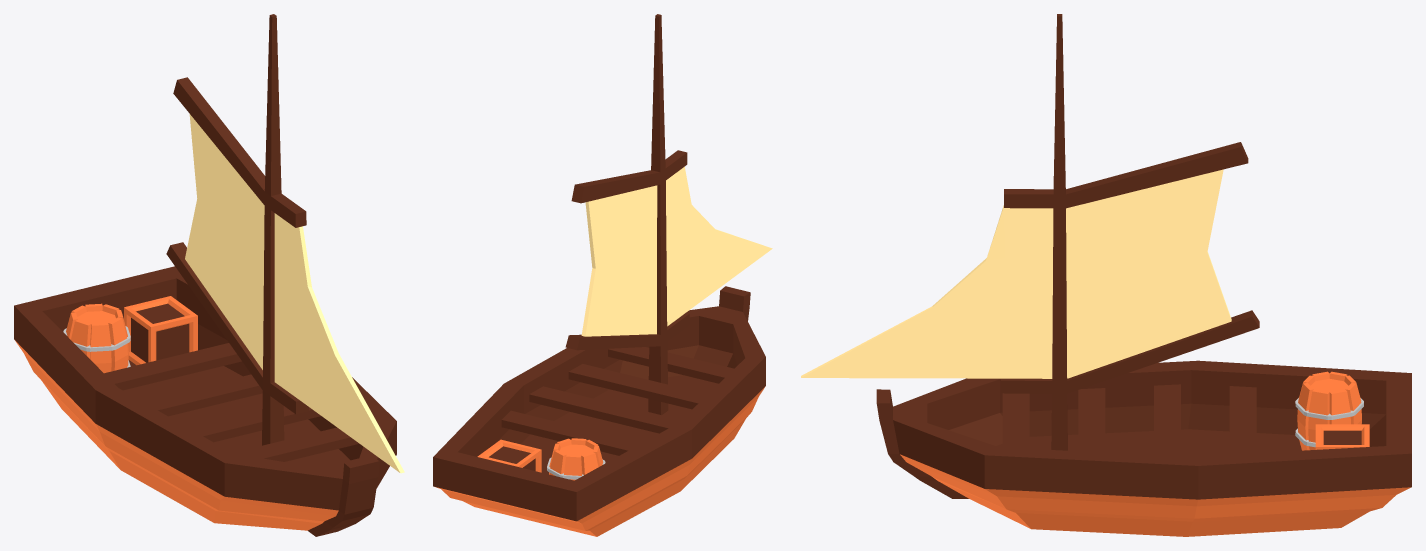
The model's file is Ship_BoatWSail.glb.
The picture shows the model from 3 angles, left to right: view 1: azimuth 30°, elevation 25°; view 2: azimuth 150°, elevation 25°; view 3: azimuth 270°, elevation 25°; orthographic projection. The views are drawn at different scales.
Visible parts, largest first — view 1: Boat, Sail; view 2: Boat, Sail; view 3: Boat, Sail.
Part boxes in pixels (left/top/right/bottom): Boat: left=14, top=266, right=396, bottom=536; Sail: left=166, top=14, right=404, bottom=473; Boat: left=433, top=286, right=765, bottom=536; Sail: left=565, top=14, right=772, bottom=415; Boat: left=876, top=360, right=1411, bottom=536; Sail: left=801, top=14, right=1259, bottom=450.
Bounding box in the file's own units: 40.32 × 85.47 × 98.9.
